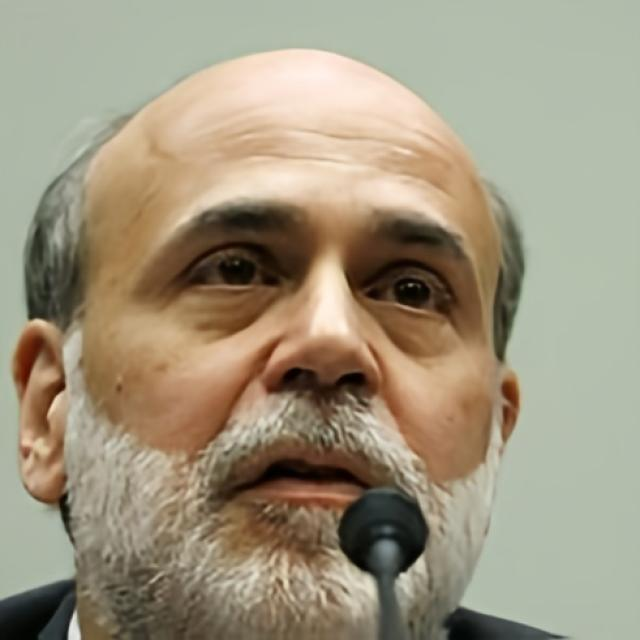fear: (63, 92, 495, 640)
